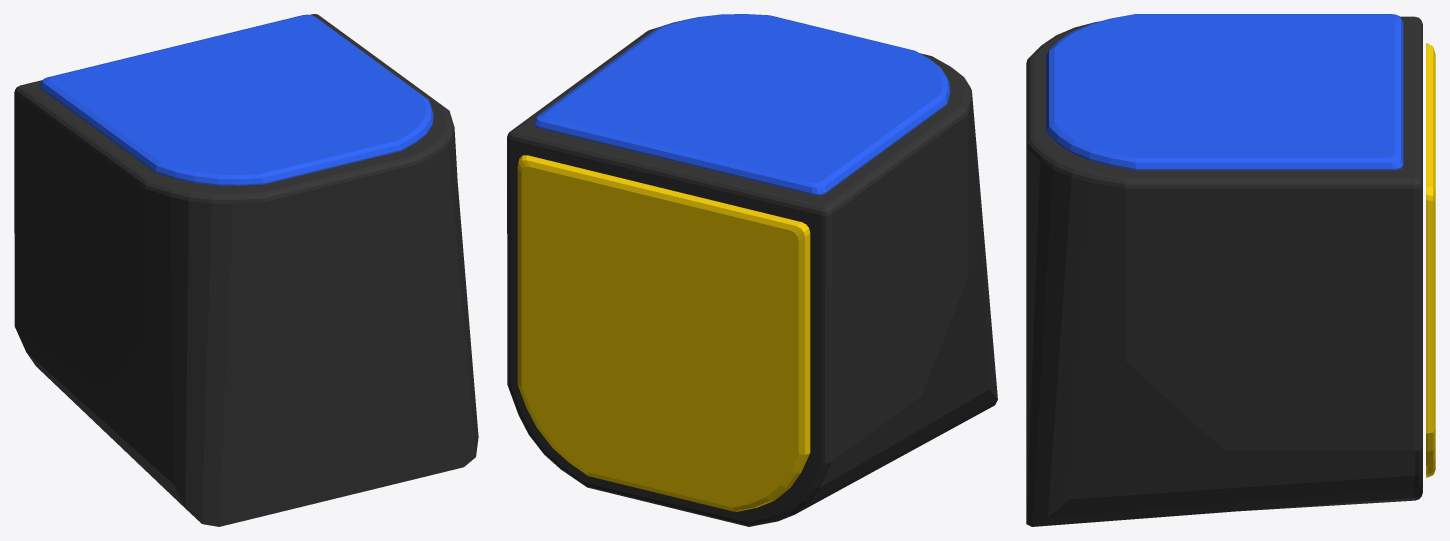
3 views of the same model, side by side, from view 1: azimuth 30°, elevation 25°; view 2: azimuth 150°, elevation 25°; view 3: azimuth 270°, elevation 25° (orthographic). The views are drawn at different scales.
Parts seen in each view (by area): view 1: Cube.032, Cube.066; view 2: Cube.084, Cube.032, Cube.066; view 3: Cube.032, Cube.066, Cube.084.
Boxes of the visible parts, x1=… form: Cube.032: x1=14, y1=14, x2=478, y2=526; Cube.066: x1=39, y1=14, x2=433, y2=185; Cube.084: x1=517, y1=155, x2=810, y2=511; Cube.032: x1=507, y1=20, x2=997, y2=526; Cube.066: x1=533, y1=14, x2=950, y2=195; Cube.032: x1=1026, y1=16, x2=1422, y2=526; Cube.066: x1=1046, y1=14, x2=1403, y2=170; Cube.084: x1=1426, y1=43, x2=1435, y2=477.
Size of the model in its own units: 200 by 206 by 206.
